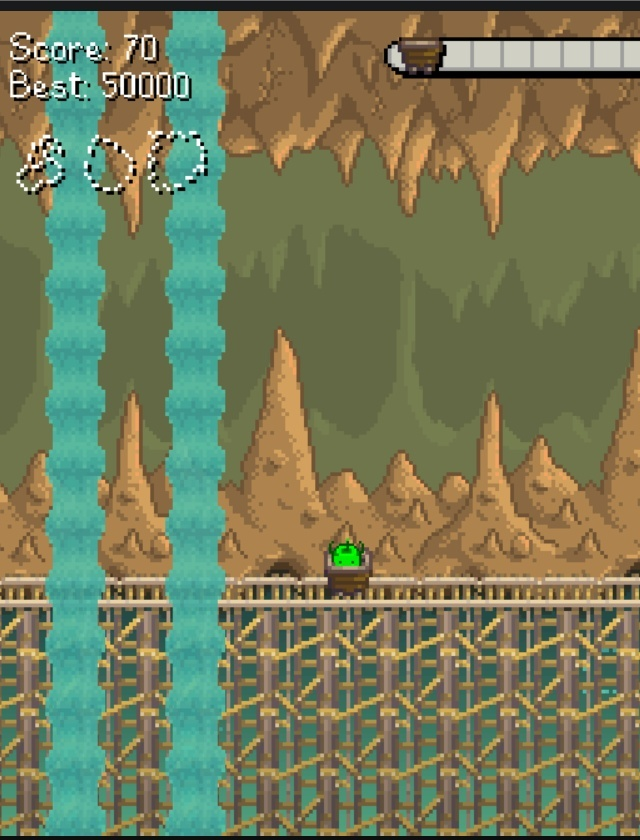minecart: (325, 540, 370, 595)
score: (122, 27, 160, 65)
tracks: (0, 564, 639, 617)
